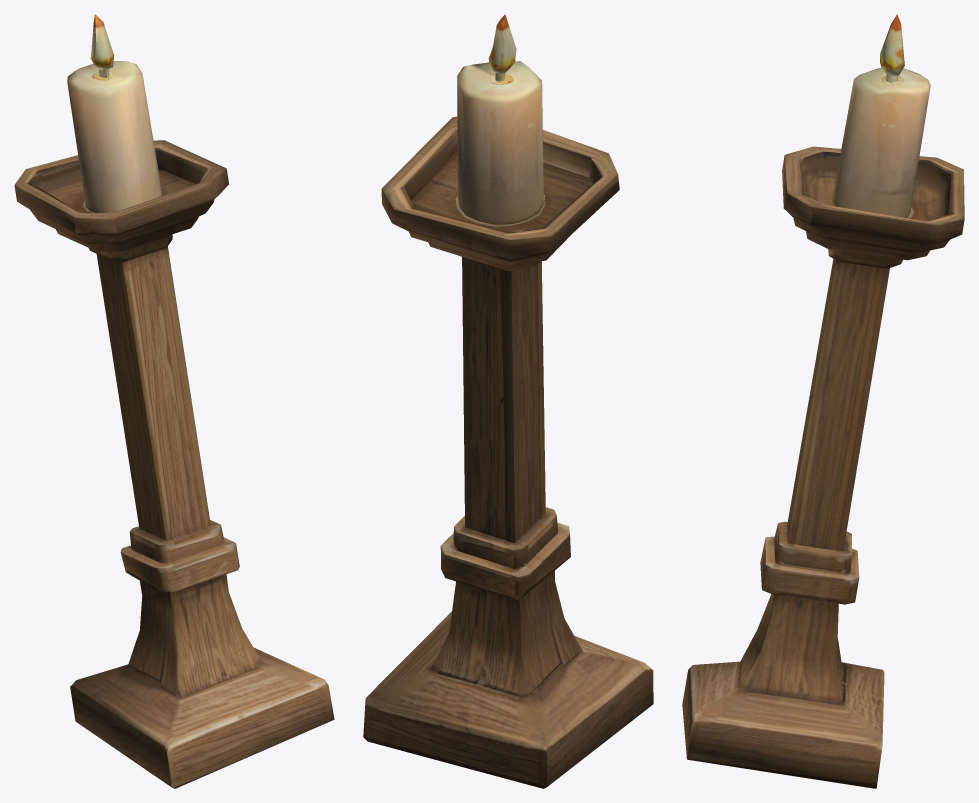
The model's file is act1_kit_v1_candle_stand.glb.
3 renders of one model, left to right at view 1: azimuth 30°, elevation 25°; view 2: azimuth 150°, elevation 25°; view 3: azimuth 270°, elevation 25°, orthographic. The views are drawn at different scales.
Parts seen in each view (by area): view 1: A11_6_candle_stand; view 2: A11_6_candle_stand; view 3: A11_6_candle_stand.
Boxes of the visible parts, x1,y1,x2,y2 form: A11_6_candle_stand: (14,14,334,788); A11_6_candle_stand: (363,14,653,788); A11_6_candle_stand: (682,14,964,788).
Bounding box in the file's own units: 0.2978 × 0.999 × 0.3591.
Materials: 1 (1 with a texture image).
